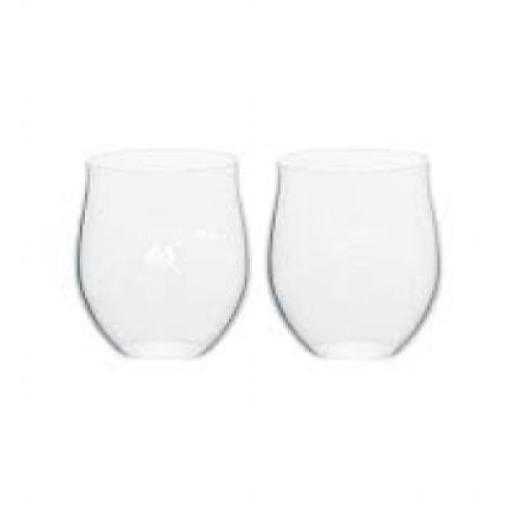glass: (262, 149, 438, 361), (74, 147, 247, 361)
